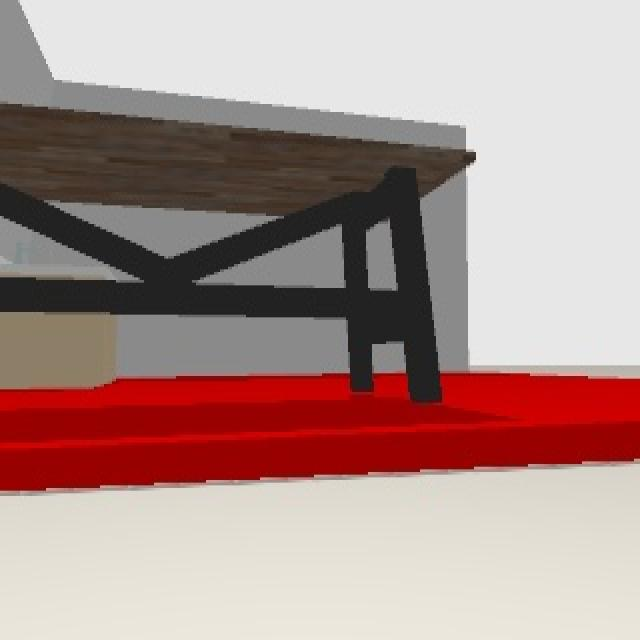dining: (0, 104, 476, 397)
